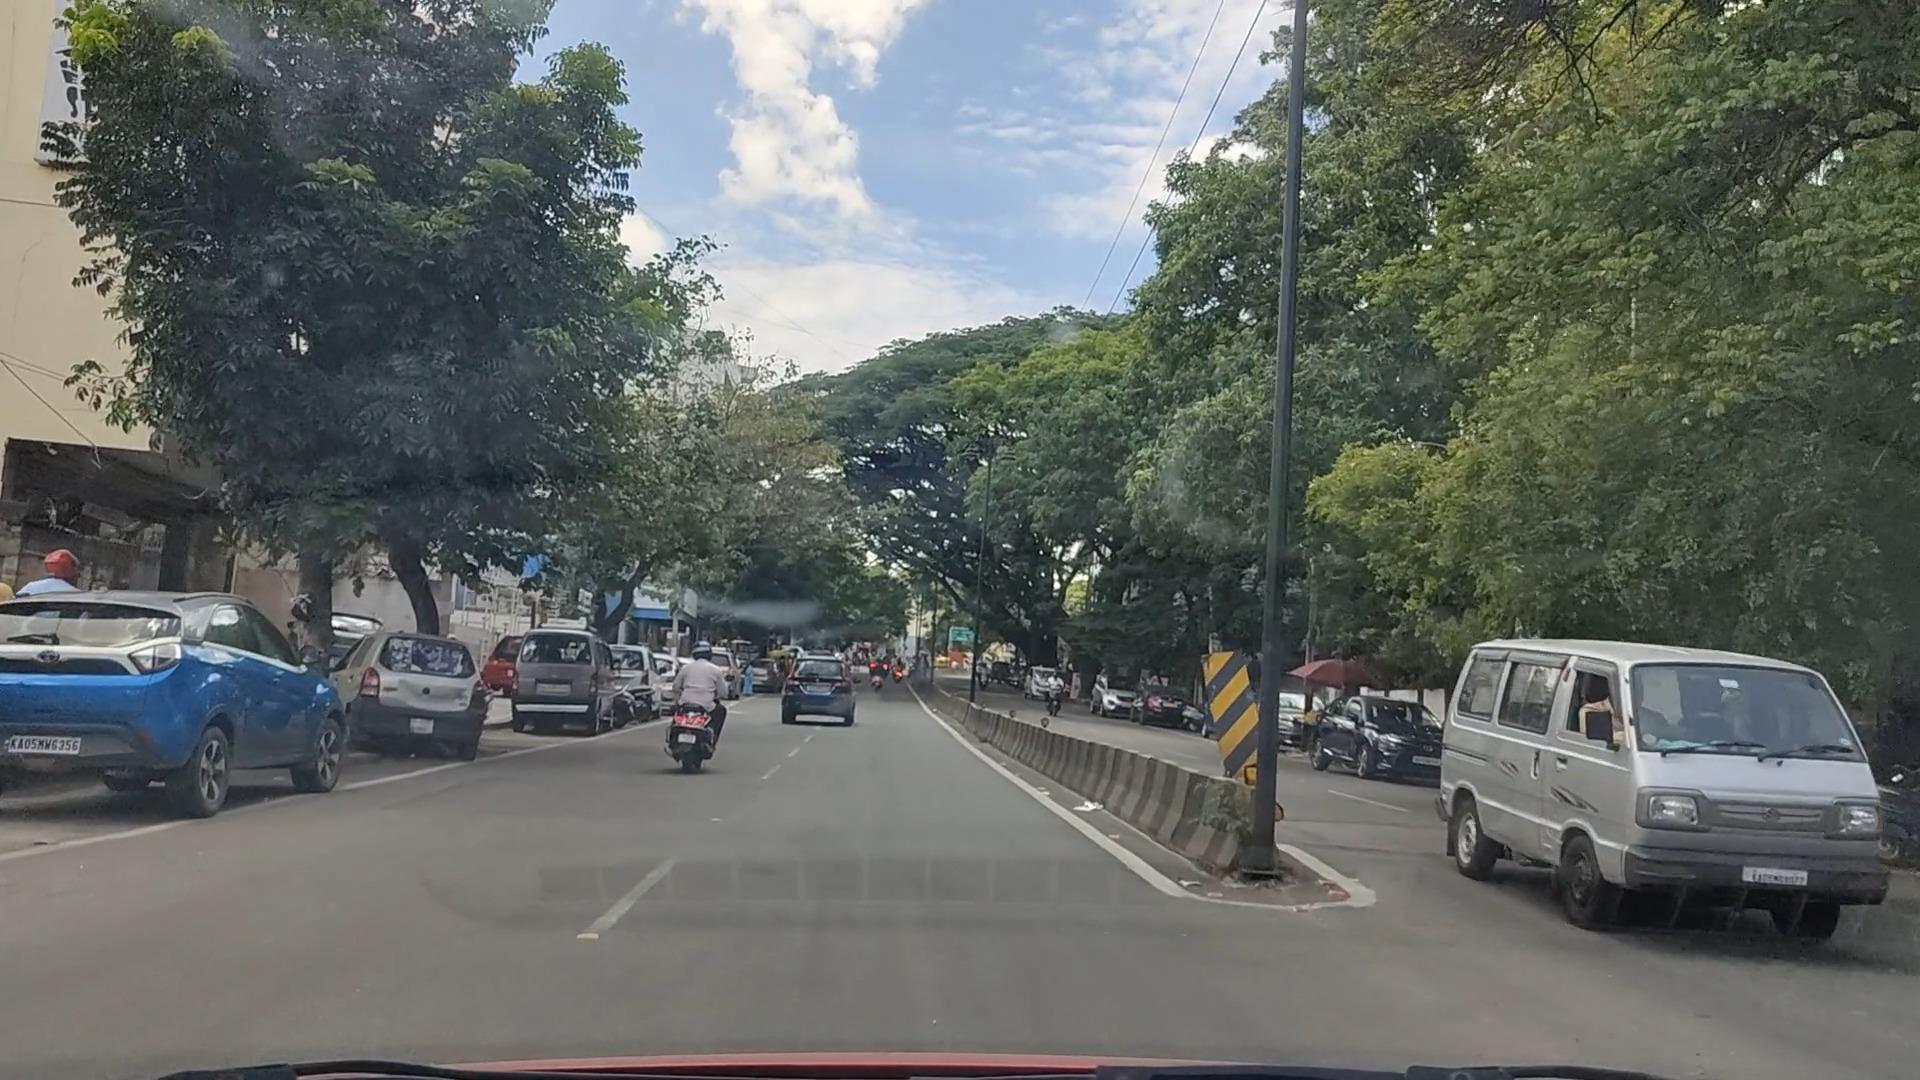LMV: (16, 580, 326, 793), (334, 625, 489, 748), (655, 616, 723, 781)
